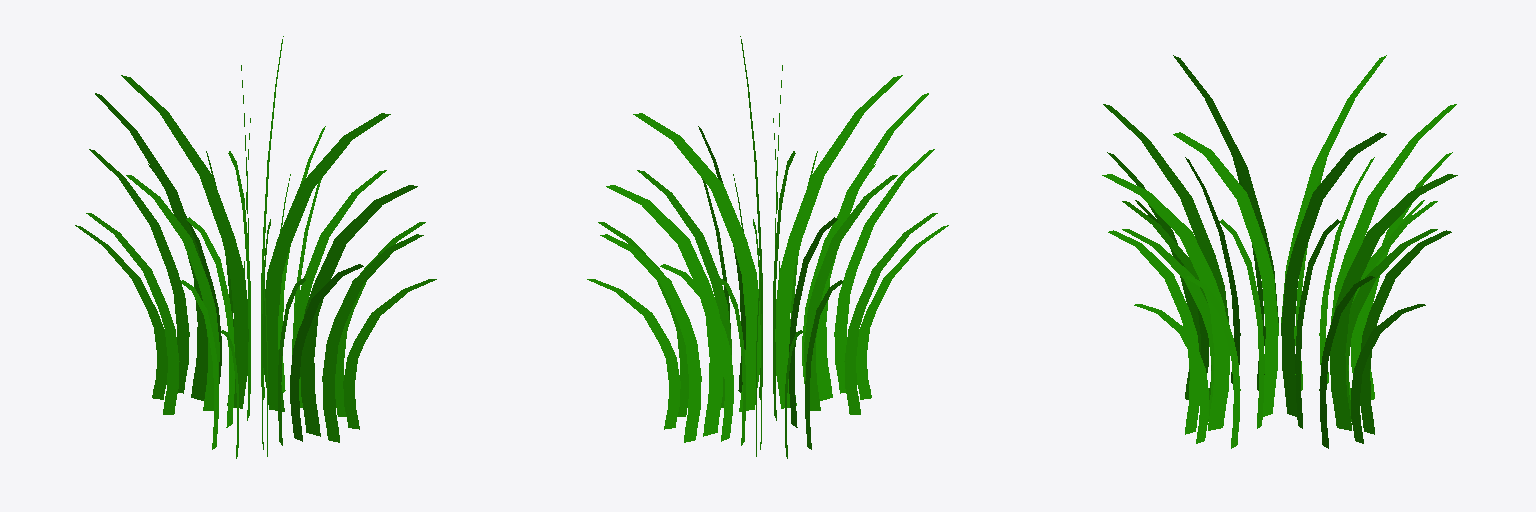
The model's file is grass.obj.
3 renders of one model, left to right at view 1: azimuth 30°, elevation 25°; view 2: azimuth 150°, elevation 25°; view 3: azimuth 270°, elevation 25°, orthographic.
Parts seen in each view (by area): view 1: Grass_7; view 2: Grass_7; view 3: Grass_7.
Boxes of the visible parts, x1,y1,x2,y2 form: Grass_7: [75, 36, 436, 458]; Grass_7: [587, 36, 948, 458]; Grass_7: [1102, 55, 1457, 448].
Bounding box in the file's own units: 1.6 × 2 × 2.